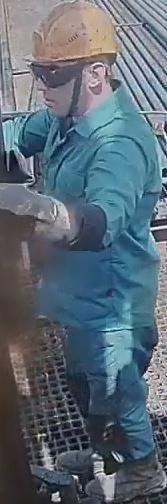gloves: (0, 181, 68, 244)
goggles: (26, 59, 107, 88)
helmet: (21, 0, 121, 65)
vest: (38, 109, 161, 331)
